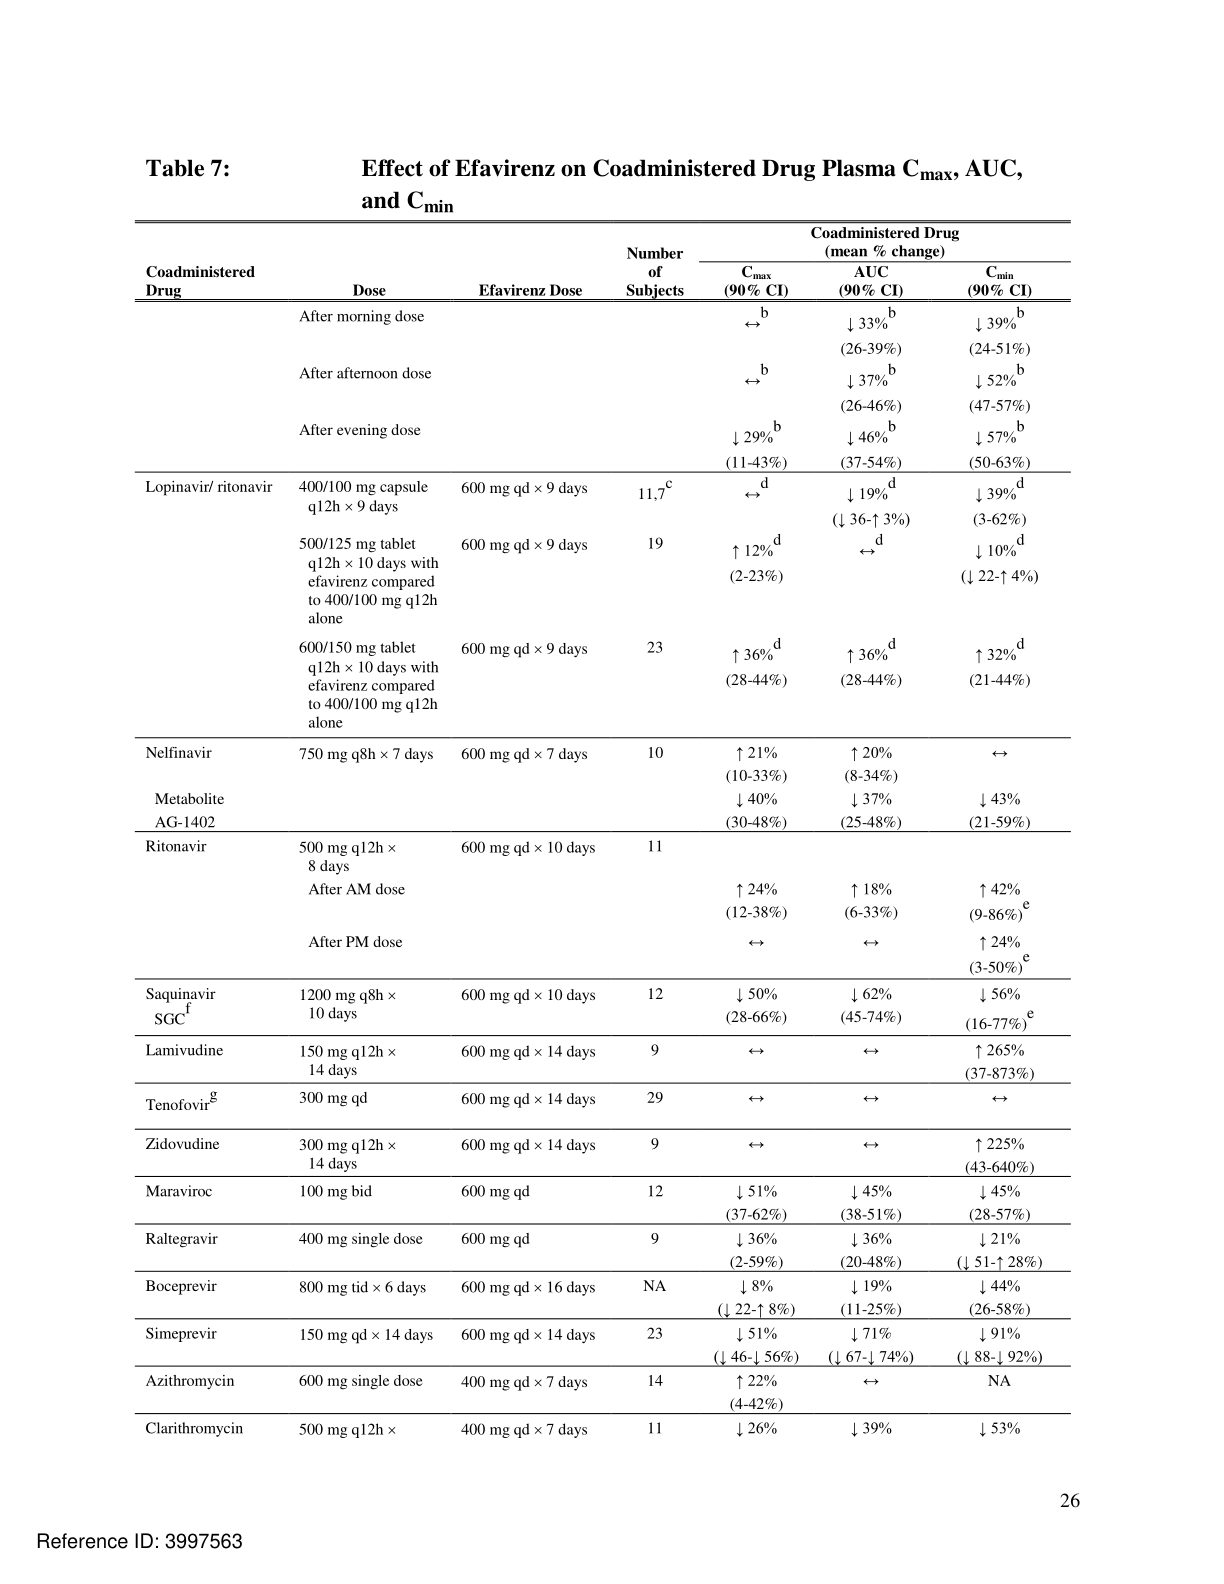partial_lined_merged_cells: (132, 219, 1074, 1448)
